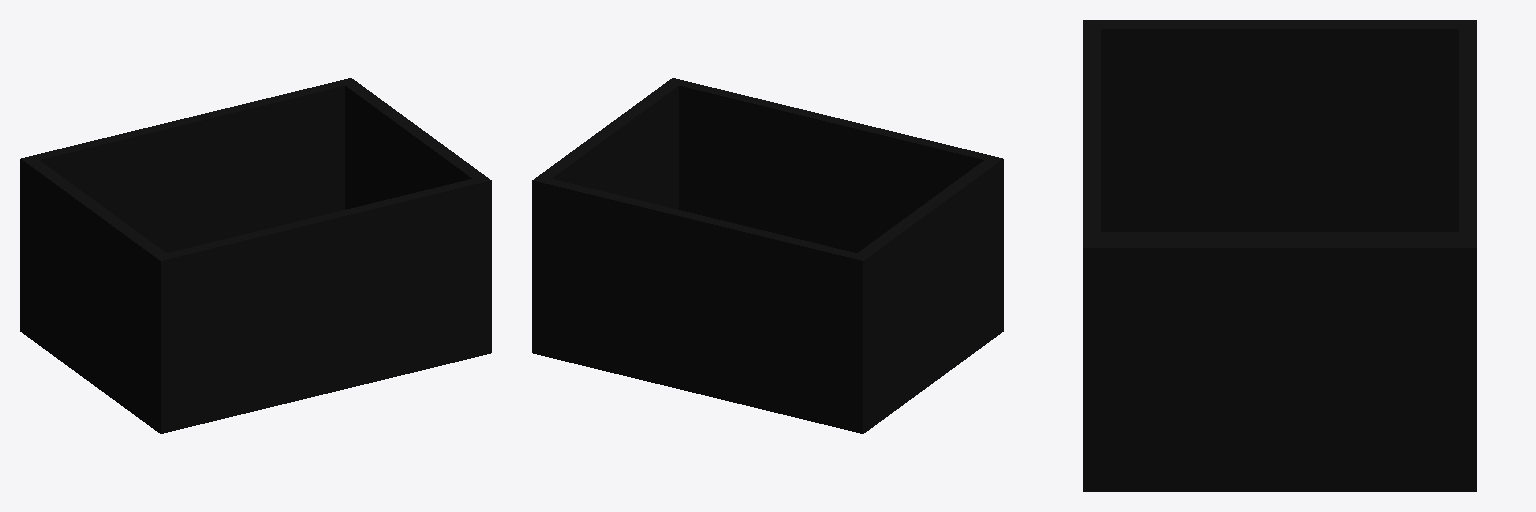
The robot description file, URDF, robot "cirtesu.SLDPRT":
<?xml version="1.0" encoding="utf-8"?>
<!-- This URDF was automatically created by SolidWorks to URDF Exporter! Originally created by [author] ([email redacted]) 
     Commit Version: 1.5.1-0-g916b5db  Build Version: 1.5.7152.31018
     For more information, please see http://wiki.ros.org/sw_urdf_exporter -->
<robot
  name="cirtesu.SLDPRT">
  <link
    name="cirtesu">
    <inertial>
      <origin
        xyz="-7.4302E-16 1.12296402645512E-16 1.834"
        rpy="0 0 0" />
      <mass
        value="425950" />
      <inertia
        ixx="5222200"
        ixy="1.6174E-09"
        ixz="-1.6986E-10"
        iyy="8218600"
        iyz="2.57702863548736E-11"
        izz="10719000" />
    </inertial>
    <visual>
      <origin
        xyz="0 0 0"
        rpy="1.5707963267949 0 0" />
      <geometry>
        <mesh
          filename="package://cirtesu/meshes/cirtesu.STL" />
      </geometry>
      <material
        name="">
        <color rgba="0.1 0.1 0.1 1"/>
        <!-- <color
          rgba="0.69804 0.69804 0.69804 1" />
        <texture
          filename="package://cirtesu/textures/" /> -->
      </material>
    </visual>
    <collision>
      <origin
        xyz="0 0 0"
        rpy="1.5707963267949 0 0" />
      <geometry>
        <mesh
          filename="package://cirtesu/meshes/cirtesu.STL" />
      </geometry>
    </collision>
  </link>
</robot>

--- What the picture shows (computed from the rendered views, not written in the file) ---
3 views of the same robot in one strip: view 1: azimuth 30°, elevation 25°; view 2: azimuth 150°, elevation 25°; view 3: azimuth 270°, elevation 25° (orthographic).
Model cirtesu.SLDPRT with 1 links and 0 joints (none), rooted at cirtesu, posed all joints at 0.
Visible links, largest first — view 1: cirtesu; view 2: cirtesu; view 3: cirtesu.
Boxes of the visible links, bbox=[...] form: cirtesu: bbox=[20, 78, 491, 433]; cirtesu: bbox=[532, 78, 1003, 433]; cirtesu: bbox=[1083, 20, 1476, 491].
Size in the robot's own frame: 12 by 8.8 by 6 metres.
1 mesh visuals loaded from 1 distinct referenced files (1 binary STL).
